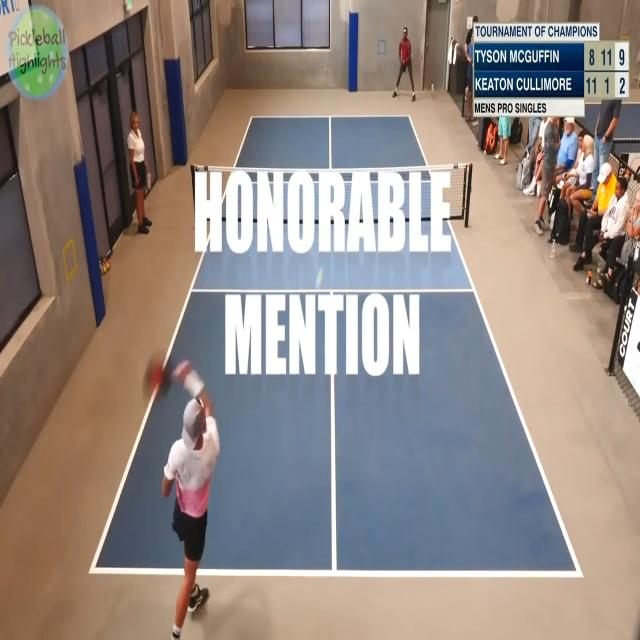Court: (95, 119, 580, 574)
